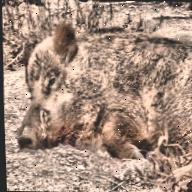boar: (11, 18, 192, 161)
